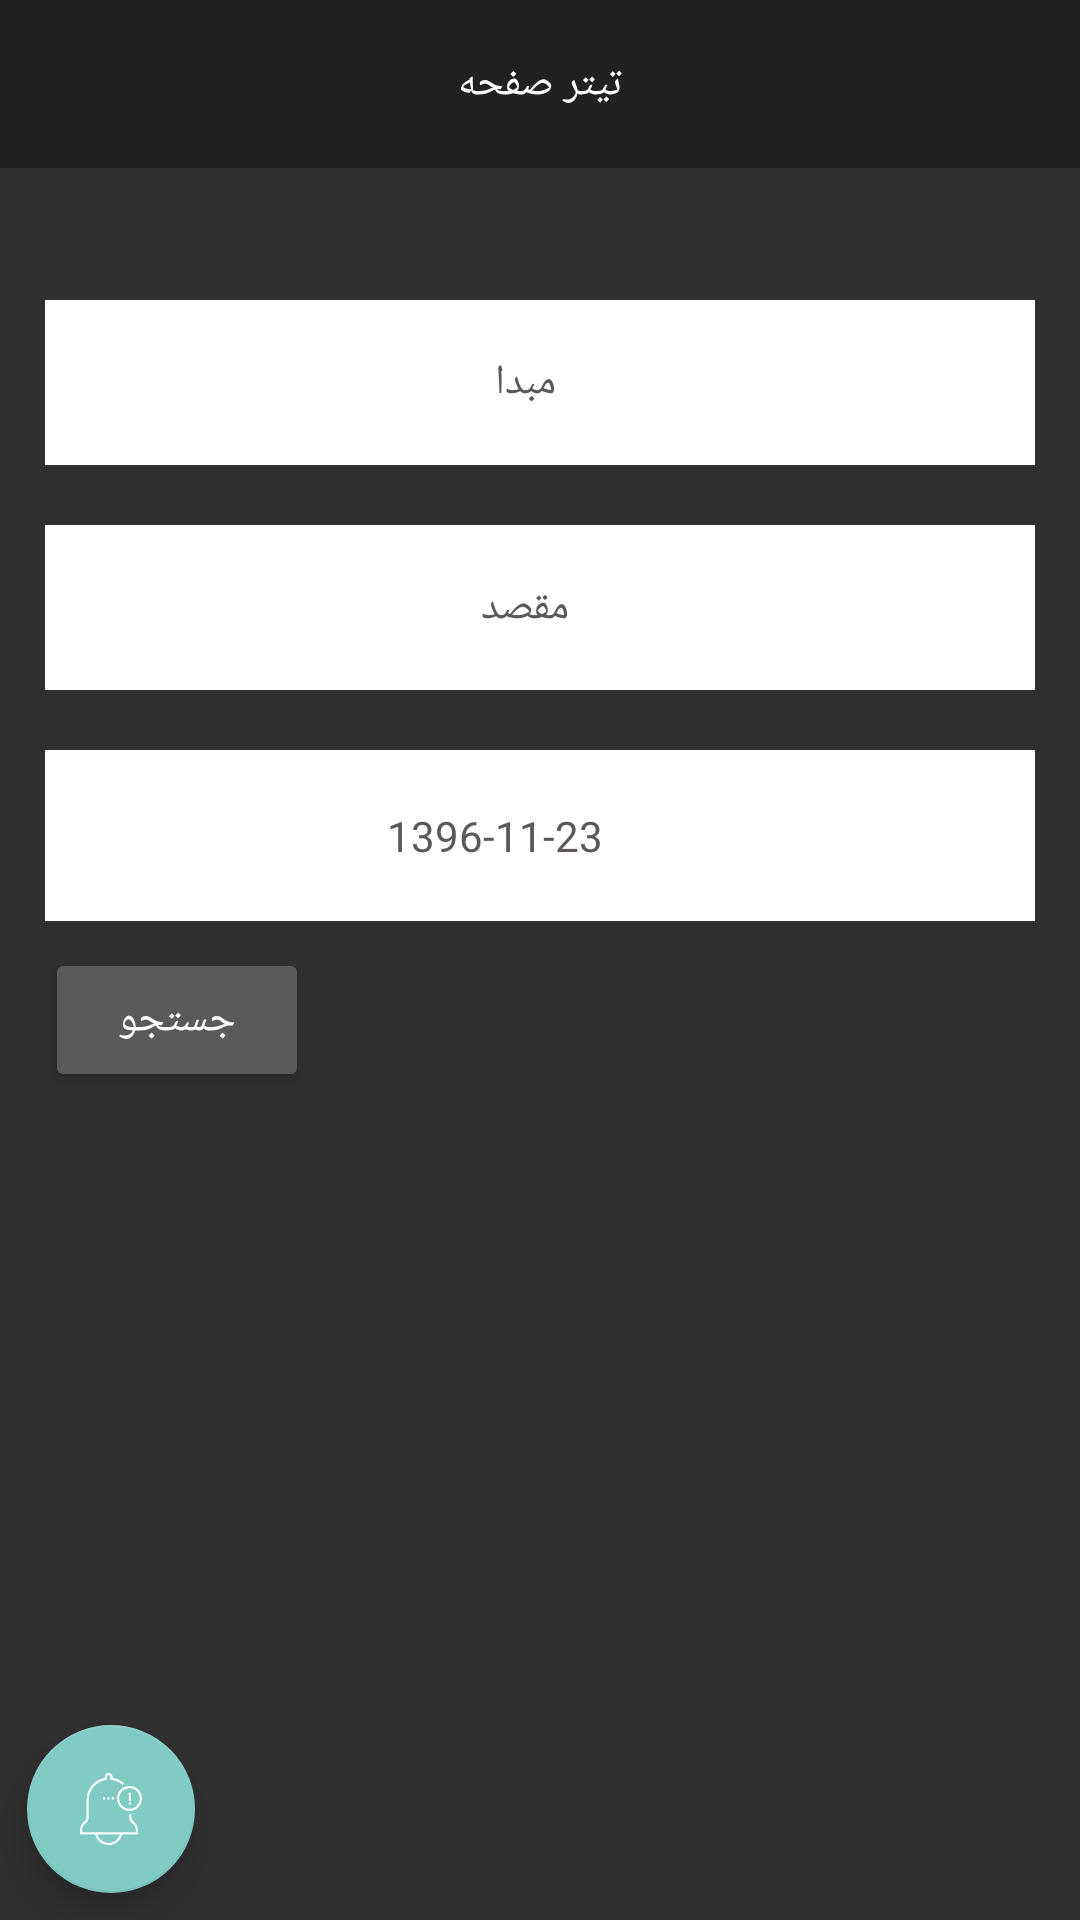

Where to tap for icons on this 1080x1920 app screen, as [x,y]:
notification: [111,1809]
